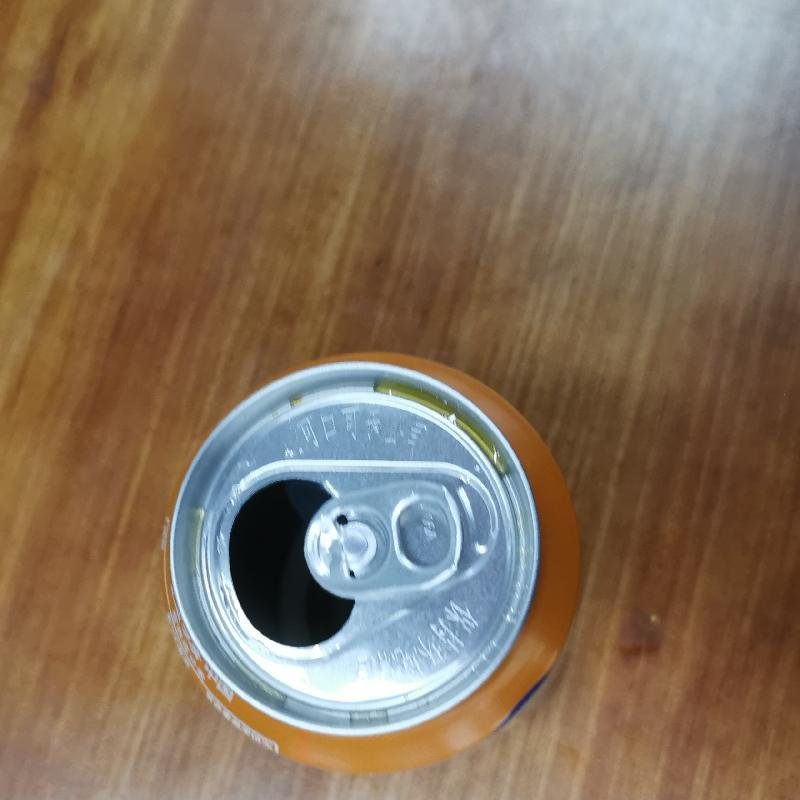cans: (154, 348, 590, 799)
